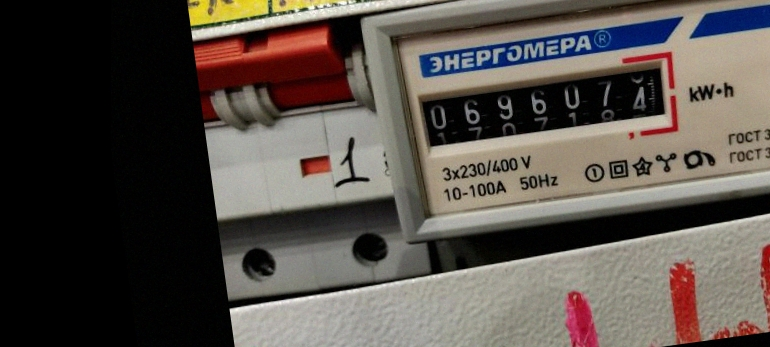0: (426, 100, 451, 131), (561, 79, 583, 110), (462, 96, 482, 124)
4: (629, 83, 649, 113)
6: (527, 84, 549, 116)
7: (594, 75, 616, 107)
9: (494, 90, 516, 120)
screen: (402, 46, 685, 166)
